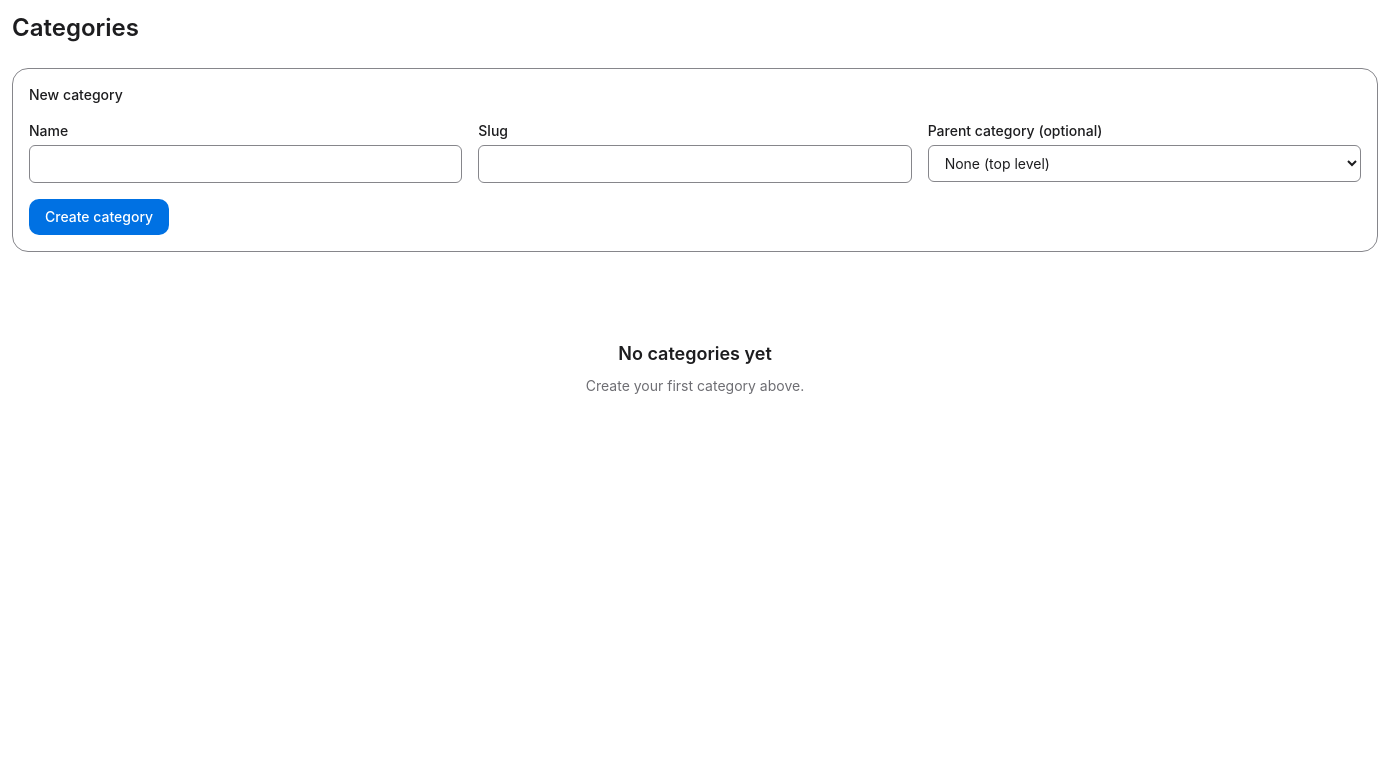
AdminCategoriesPage › creates a category and shows it in the list
This screenshot has width=1378, height=780.
Check: the heading "No categories yet" is shown, box [618, 340, 772, 368]
Type "Speakers" into the field labelled "Name" at (246, 164), box [29, 145, 462, 183]
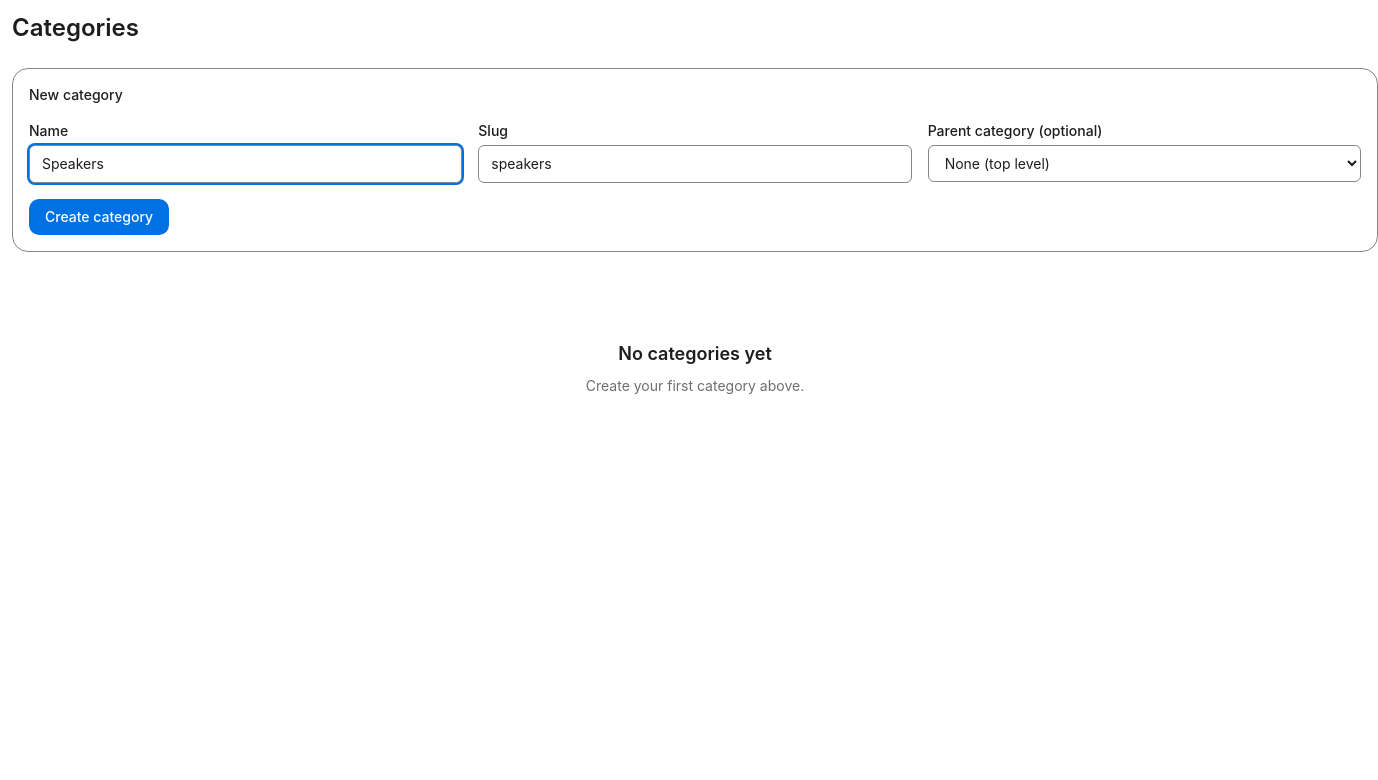
Click the button "Create category" at (99, 217), box [29, 199, 169, 235]
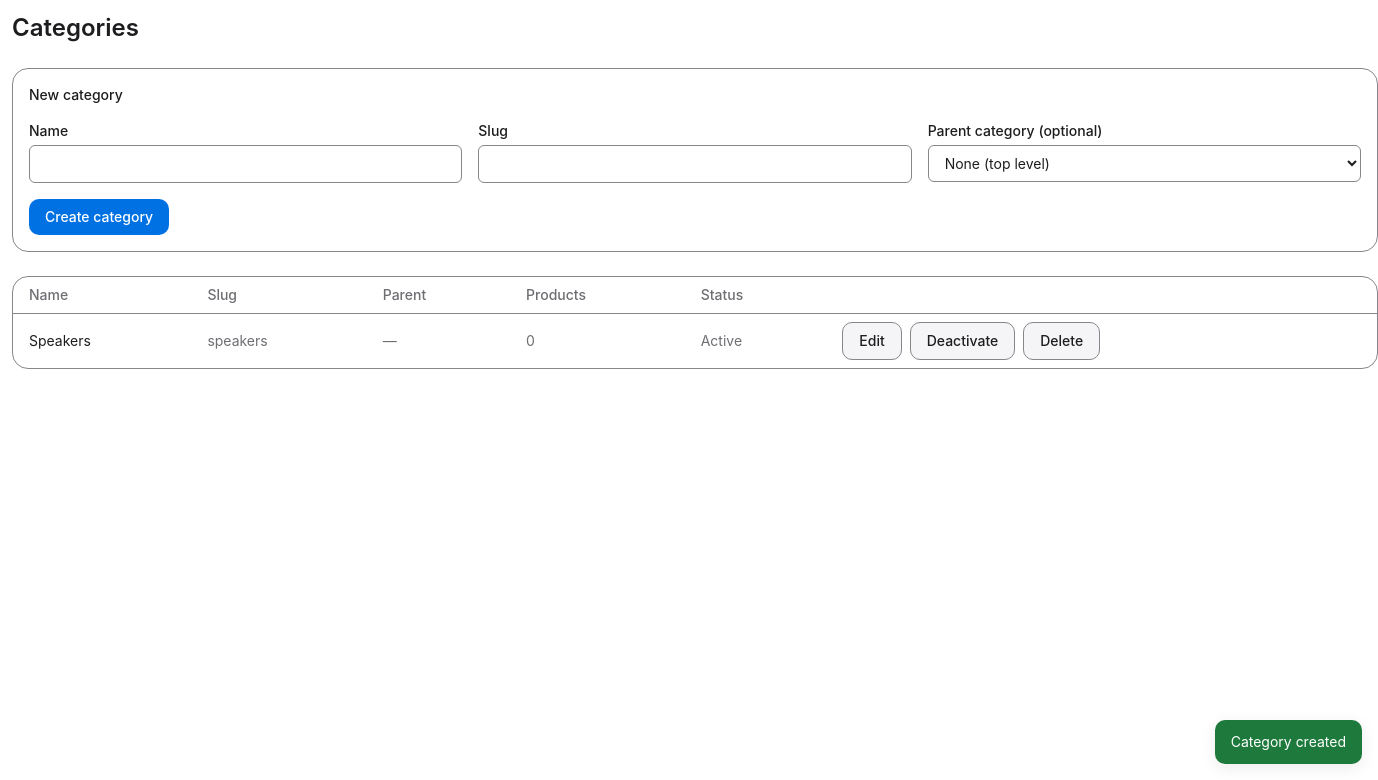
Check: the text "Category created" is shown, box [1215, 720, 1362, 764]
Check: the cell "Speakers" is shown, box [13, 314, 191, 368]
